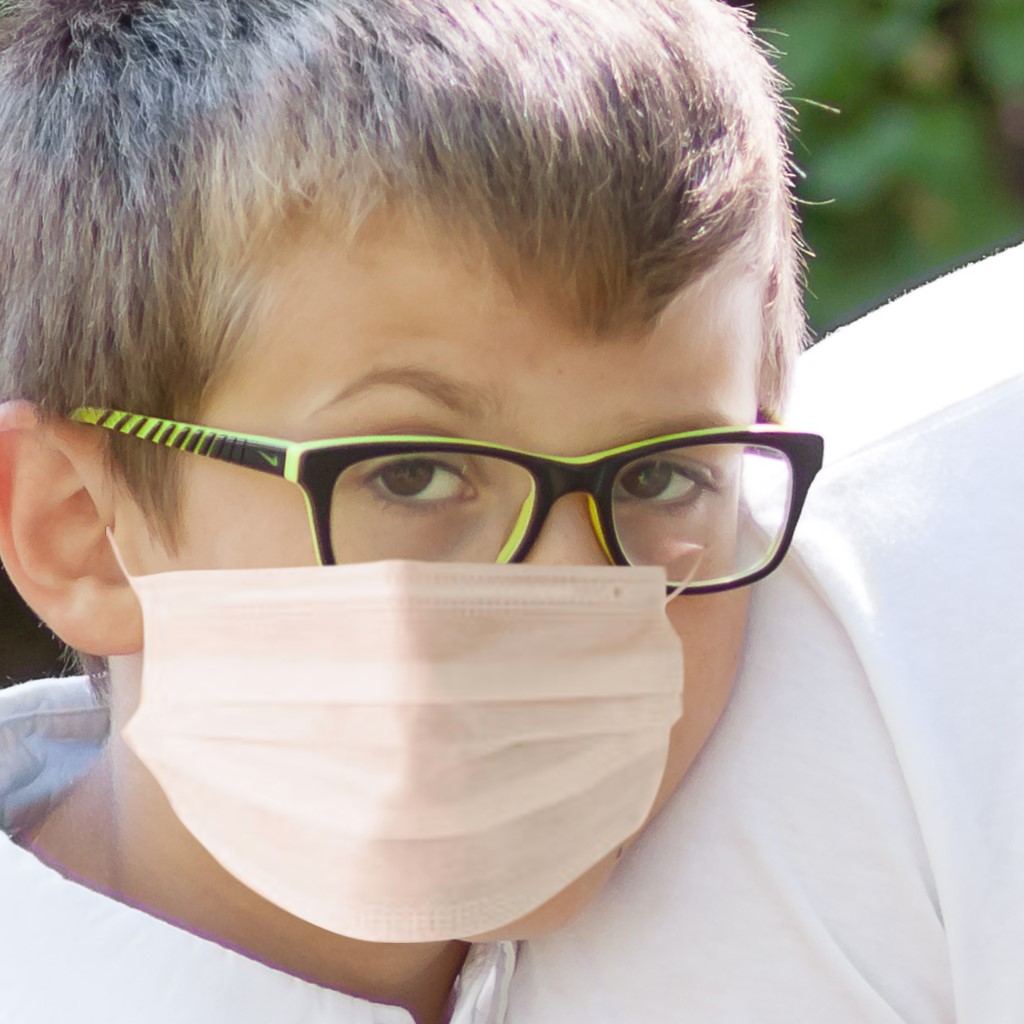con_mascara: (25, 12, 783, 936)
